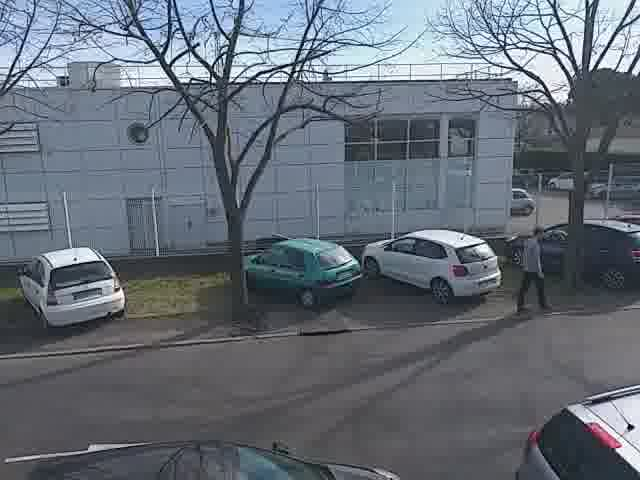persona: (511, 219, 553, 315)
